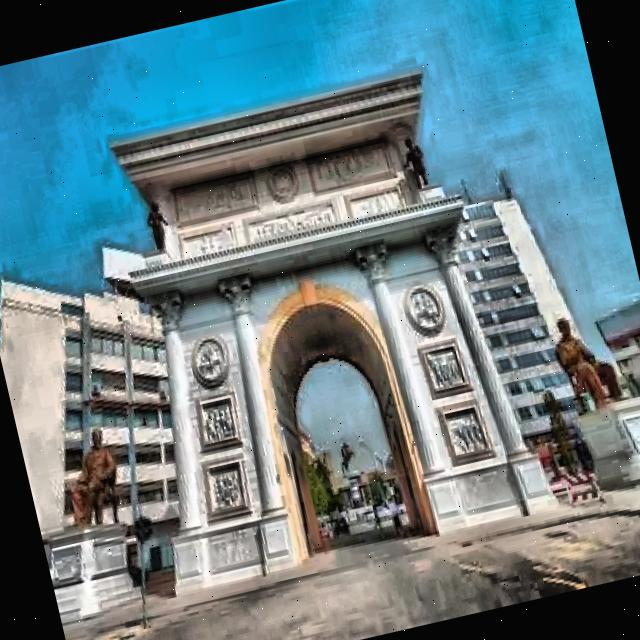triumphal arch: (97, 51, 563, 618)
